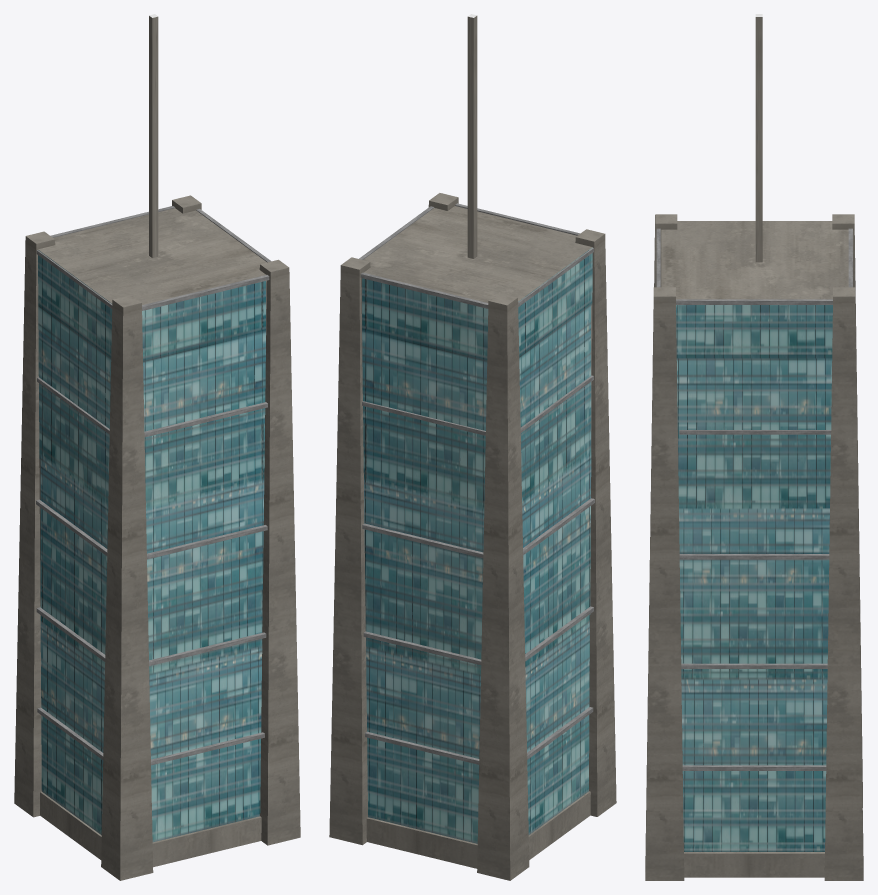
The model's file is Building 1.fbx.
3 renders of one model, left to right at view 1: azimuth 30°, elevation 25°; view 2: azimuth 150°, elevation 25°; view 3: azimuth 270°, elevation 25°, orthographic. The views are drawn at different scales.
Parts seen in each view (by area): view 1: pCube32, pCube37, group7_pCube42, pCube70; view 2: pCube32, pCube37, group7_pCube42, pCube70; view 3: pCube32, pCube37, group7_pCube42, pCube70.
Boxes of the visible parts, x1,y1,x2,y2 form: pCube32: (38, 208, 266, 842); pCube37: (14, 195, 300, 880); group7_pCube42: (36, 206, 270, 765); pCube70: (149, 14, 158, 257); pCube32: (361, 206, 592, 843); pCube37: (329, 193, 616, 880); group7_pCube42: (359, 203, 594, 764); pCube70: (467, 14, 477, 258); pCube32: (661, 221, 848, 851); pCube37: (645, 214, 863, 880); group7_pCube42: (656, 228, 852, 770); pCube70: (755, 14, 762, 262).
Size of the model in its own units: 49.29 by 210 by 50.73.
1 material, 1 textured.
